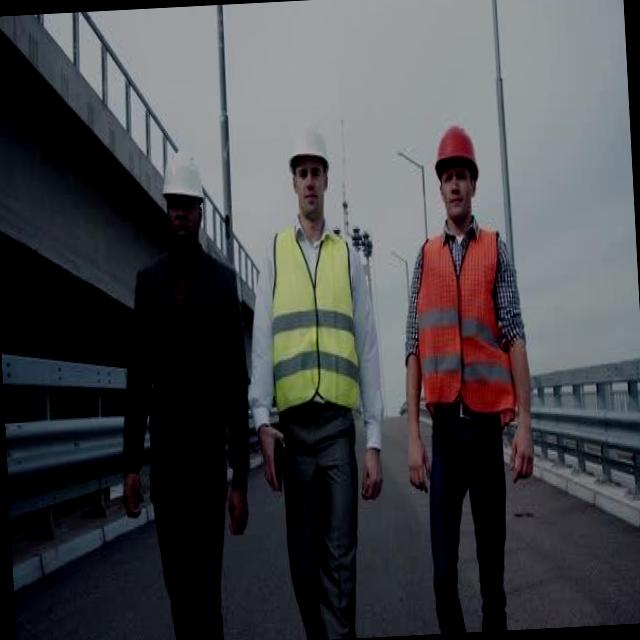helmet: (154, 148, 208, 208), (428, 124, 480, 174), (282, 122, 332, 164)
no-goggles: (156, 196, 207, 224), (286, 158, 331, 186), (436, 164, 476, 192)
no-vest: (127, 266, 235, 516)
vest: (251, 222, 369, 440), (404, 227, 523, 432)
